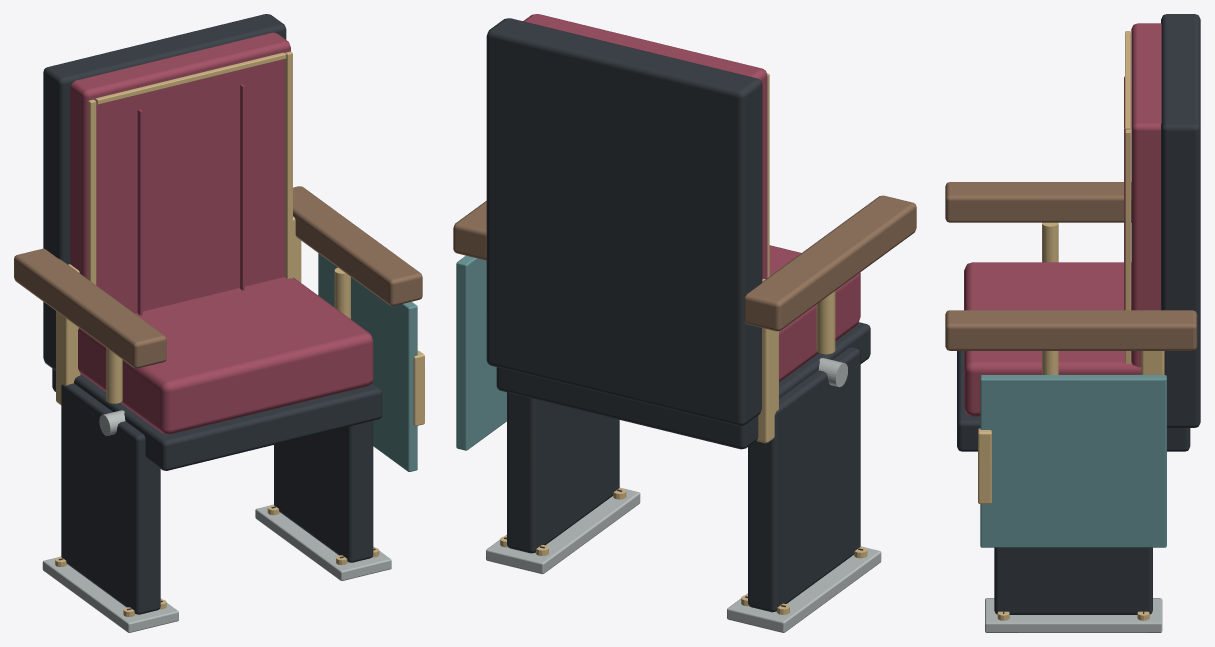
File: abandoned-cinema-and-projection-booth-abandoned-cinema-f7bfb81e__29697.glb
The picture shows the model from 3 angles, left to right: view 1: azimuth 30°, elevation 25°; view 2: azimuth 150°, elevation 25°; view 3: azimuth 270°, elevation 25°; orthographic projection. The views are drawn at different scales.
Parts seen in each view (by area): view 1: abandoned-cinema-and-projection-booth-aisle-end-seat; view 2: abandoned-cinema-and-projection-booth-aisle-end-seat; view 3: abandoned-cinema-and-projection-booth-aisle-end-seat.
Boxes of the visible parts, bbox=[...] form: abandoned-cinema-and-projection-booth-aisle-end-seat: bbox=[14, 14, 424, 632]; abandoned-cinema-and-projection-booth-aisle-end-seat: bbox=[453, 14, 916, 632]; abandoned-cinema-and-projection-booth-aisle-end-seat: bbox=[945, 14, 1200, 632].
Size of the model in its own units: 0.7785 by 1.18 by 0.5475.
